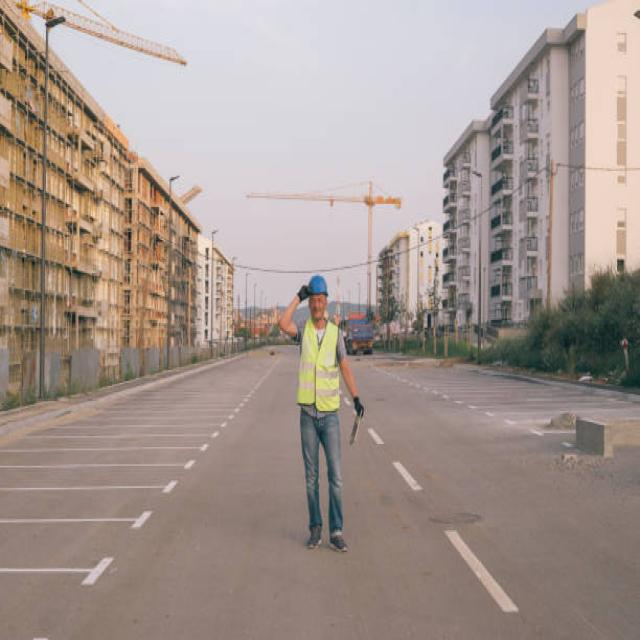Gloves: (350, 392, 367, 428), (296, 279, 312, 308)
Vest: (296, 317, 342, 416)
helmet: (306, 275, 331, 294)
person: (278, 274, 366, 554)
